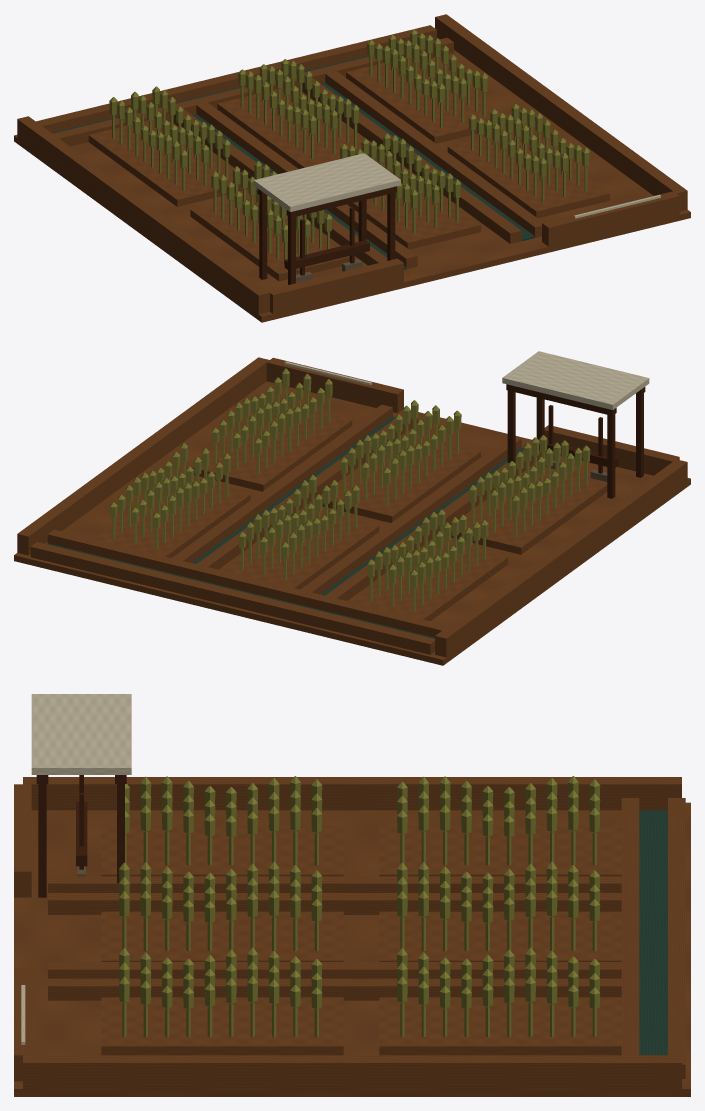
The model's file is Berber_Farm_Age1.fbx.
3 renders of one model, top to bottom at view 1: azimuth 30°, elevation 25°; view 2: azimuth 150°, elevation 25°; view 3: azimuth 270°, elevation 25°, orthographic. The views are drawn at different scales.
Parts seen in each view (by area): view 1: flat_earth_plot, low_side_edging, low_side_edging.001, raised_bed_2_0, raised_bed_0_1, woven_tool_shade, raised_bed_2_1, branch_channel_bank.003, header_channel_bank.001, raised_bed_1_1, raised_bed_0_0, raised_bed_1_0 (+13 smaller); view 2: flat_earth_plot, low_side_edging, low_side_edging.001, header_channel_bank.001, header_channel_bank, woven_tool_shade, raised_bed_0_0, raised_bed_2_0, raised_bed_1_0, raised_bed_0_1, raised_bed_1_1, raised_bed_2_1 (+13 smaller); view 3: flat_earth_plot, low_side_edging.001, low_side_edging, raised_bed_2_1, raised_bed_2_0, raised_bed_0_1, raised_bed_1_0, raised_bed_1_1, raised_bed_0_0, woven_tool_shade, branch_channel_bank.003, branch_channel_bank.001 (+10 smaller).
Part boxes in pixels (x1,y1,x2,y2): flat_earth_plot: (14, 37, 690, 322); low_side_edging: (17, 116, 269, 314); low_side_edging.001: (435, 14, 687, 211); raised_bed_2_0: (447, 130, 609, 217); raised_bed_0_1: (88, 117, 248, 206); woven_tool_shade: (253, 153, 400, 211); raised_bed_2_1: (346, 54, 505, 143); branch_channel_bank.003: (325, 71, 543, 237); header_channel_bank.001: (36, 25, 436, 132); raised_bed_1_1: (217, 86, 377, 168); raised_bed_0_0: (190, 193, 349, 281); raised_bed_1_0: (347, 160, 480, 249); flat_earth_plot: (14, 381, 690, 665); low_side_edging: (435, 459, 687, 657); low_side_edging.001: (17, 357, 269, 555); header_channel_bank.001: (30, 542, 434, 654); header_channel_bank: (47, 529, 448, 637); woven_tool_shade: (502, 351, 649, 409); raised_bed_0_0: (451, 465, 607, 554); raised_bed_2_0: (191, 402, 352, 491); raised_bed_1_0: (321, 433, 480, 522); raised_bed_0_1: (350, 539, 508, 621); raised_bed_1_1: (221, 508, 379, 589); raised_bed_2_1: (92, 477, 250, 557); flat_earth_plot: (14, 802, 690, 1096); low_side_edging.001: (23, 1055, 681, 1088); low_side_edging: (23, 777, 681, 810); raised_bed_2_1: (379, 997, 621, 1055); raised_bed_2_0: (101, 997, 343, 1055); raised_bed_0_1: (379, 825, 621, 876); raised_bed_1_0: (101, 911, 343, 961); raised_bed_1_1: (379, 911, 621, 961); raised_bed_0_0: (101, 825, 343, 876); woven_tool_shade: (31, 694, 131, 774); branch_channel_bank.003: (48, 978, 621, 1000); branch_channel_bank.001: (48, 893, 621, 914).
Size of the model in its own units: 380 by 86.75 by 380.
Materials: 6 (6 with a texture image).
